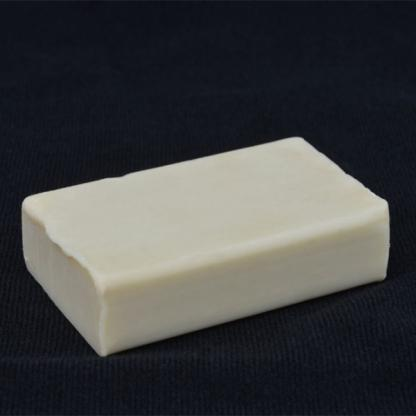soap: (16, 131, 400, 358)
